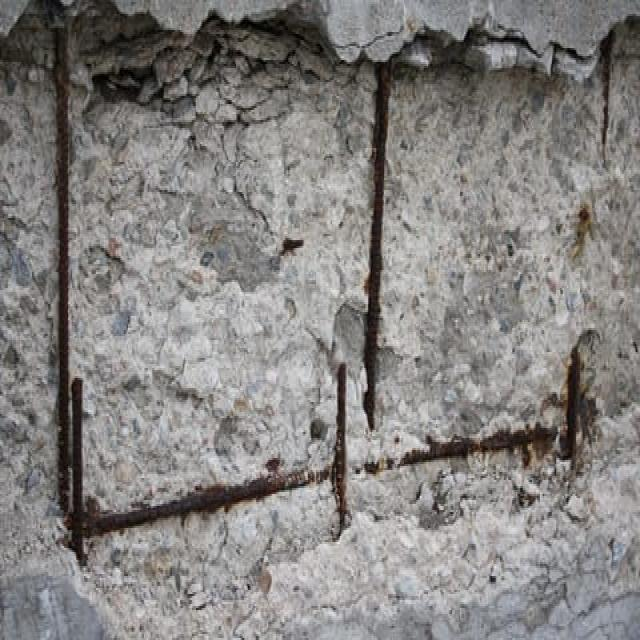spalling: (0, 0, 637, 639)
stain_mould: (362, 62, 389, 434), (53, 27, 69, 511)
